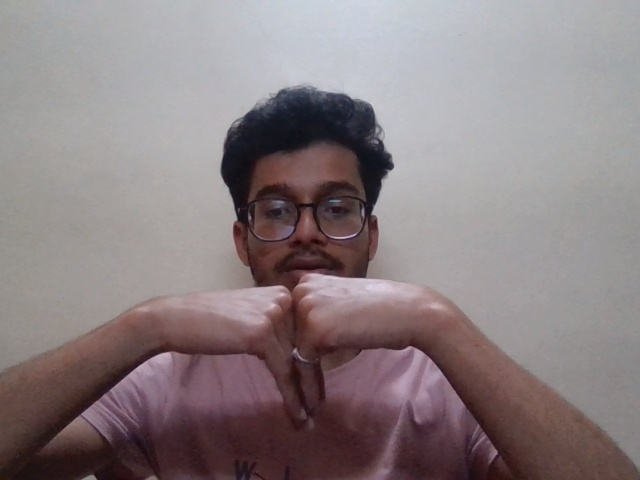yesterday: (136, 267, 444, 430)
